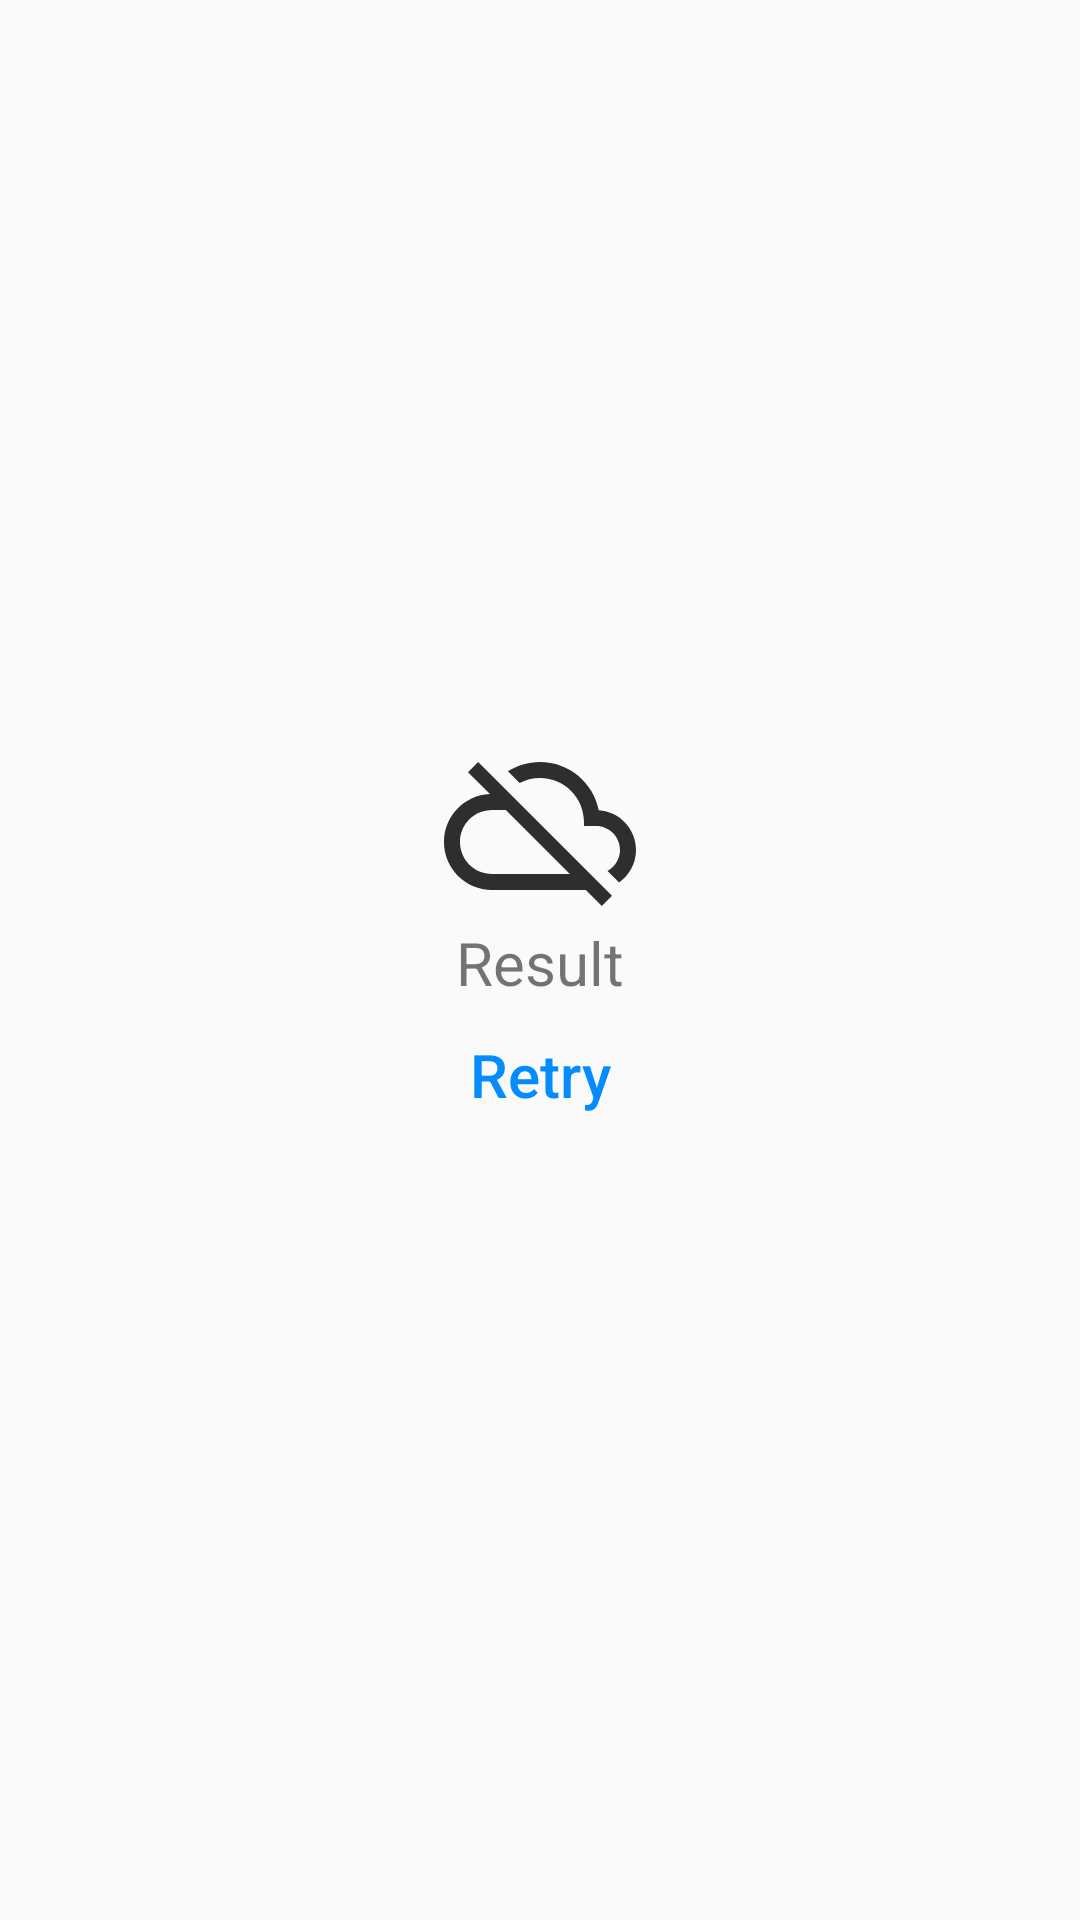

Point at icon controls on the screen. Image size 1080 x 1920, points as point (x, y).
No internet: point (540, 834)
